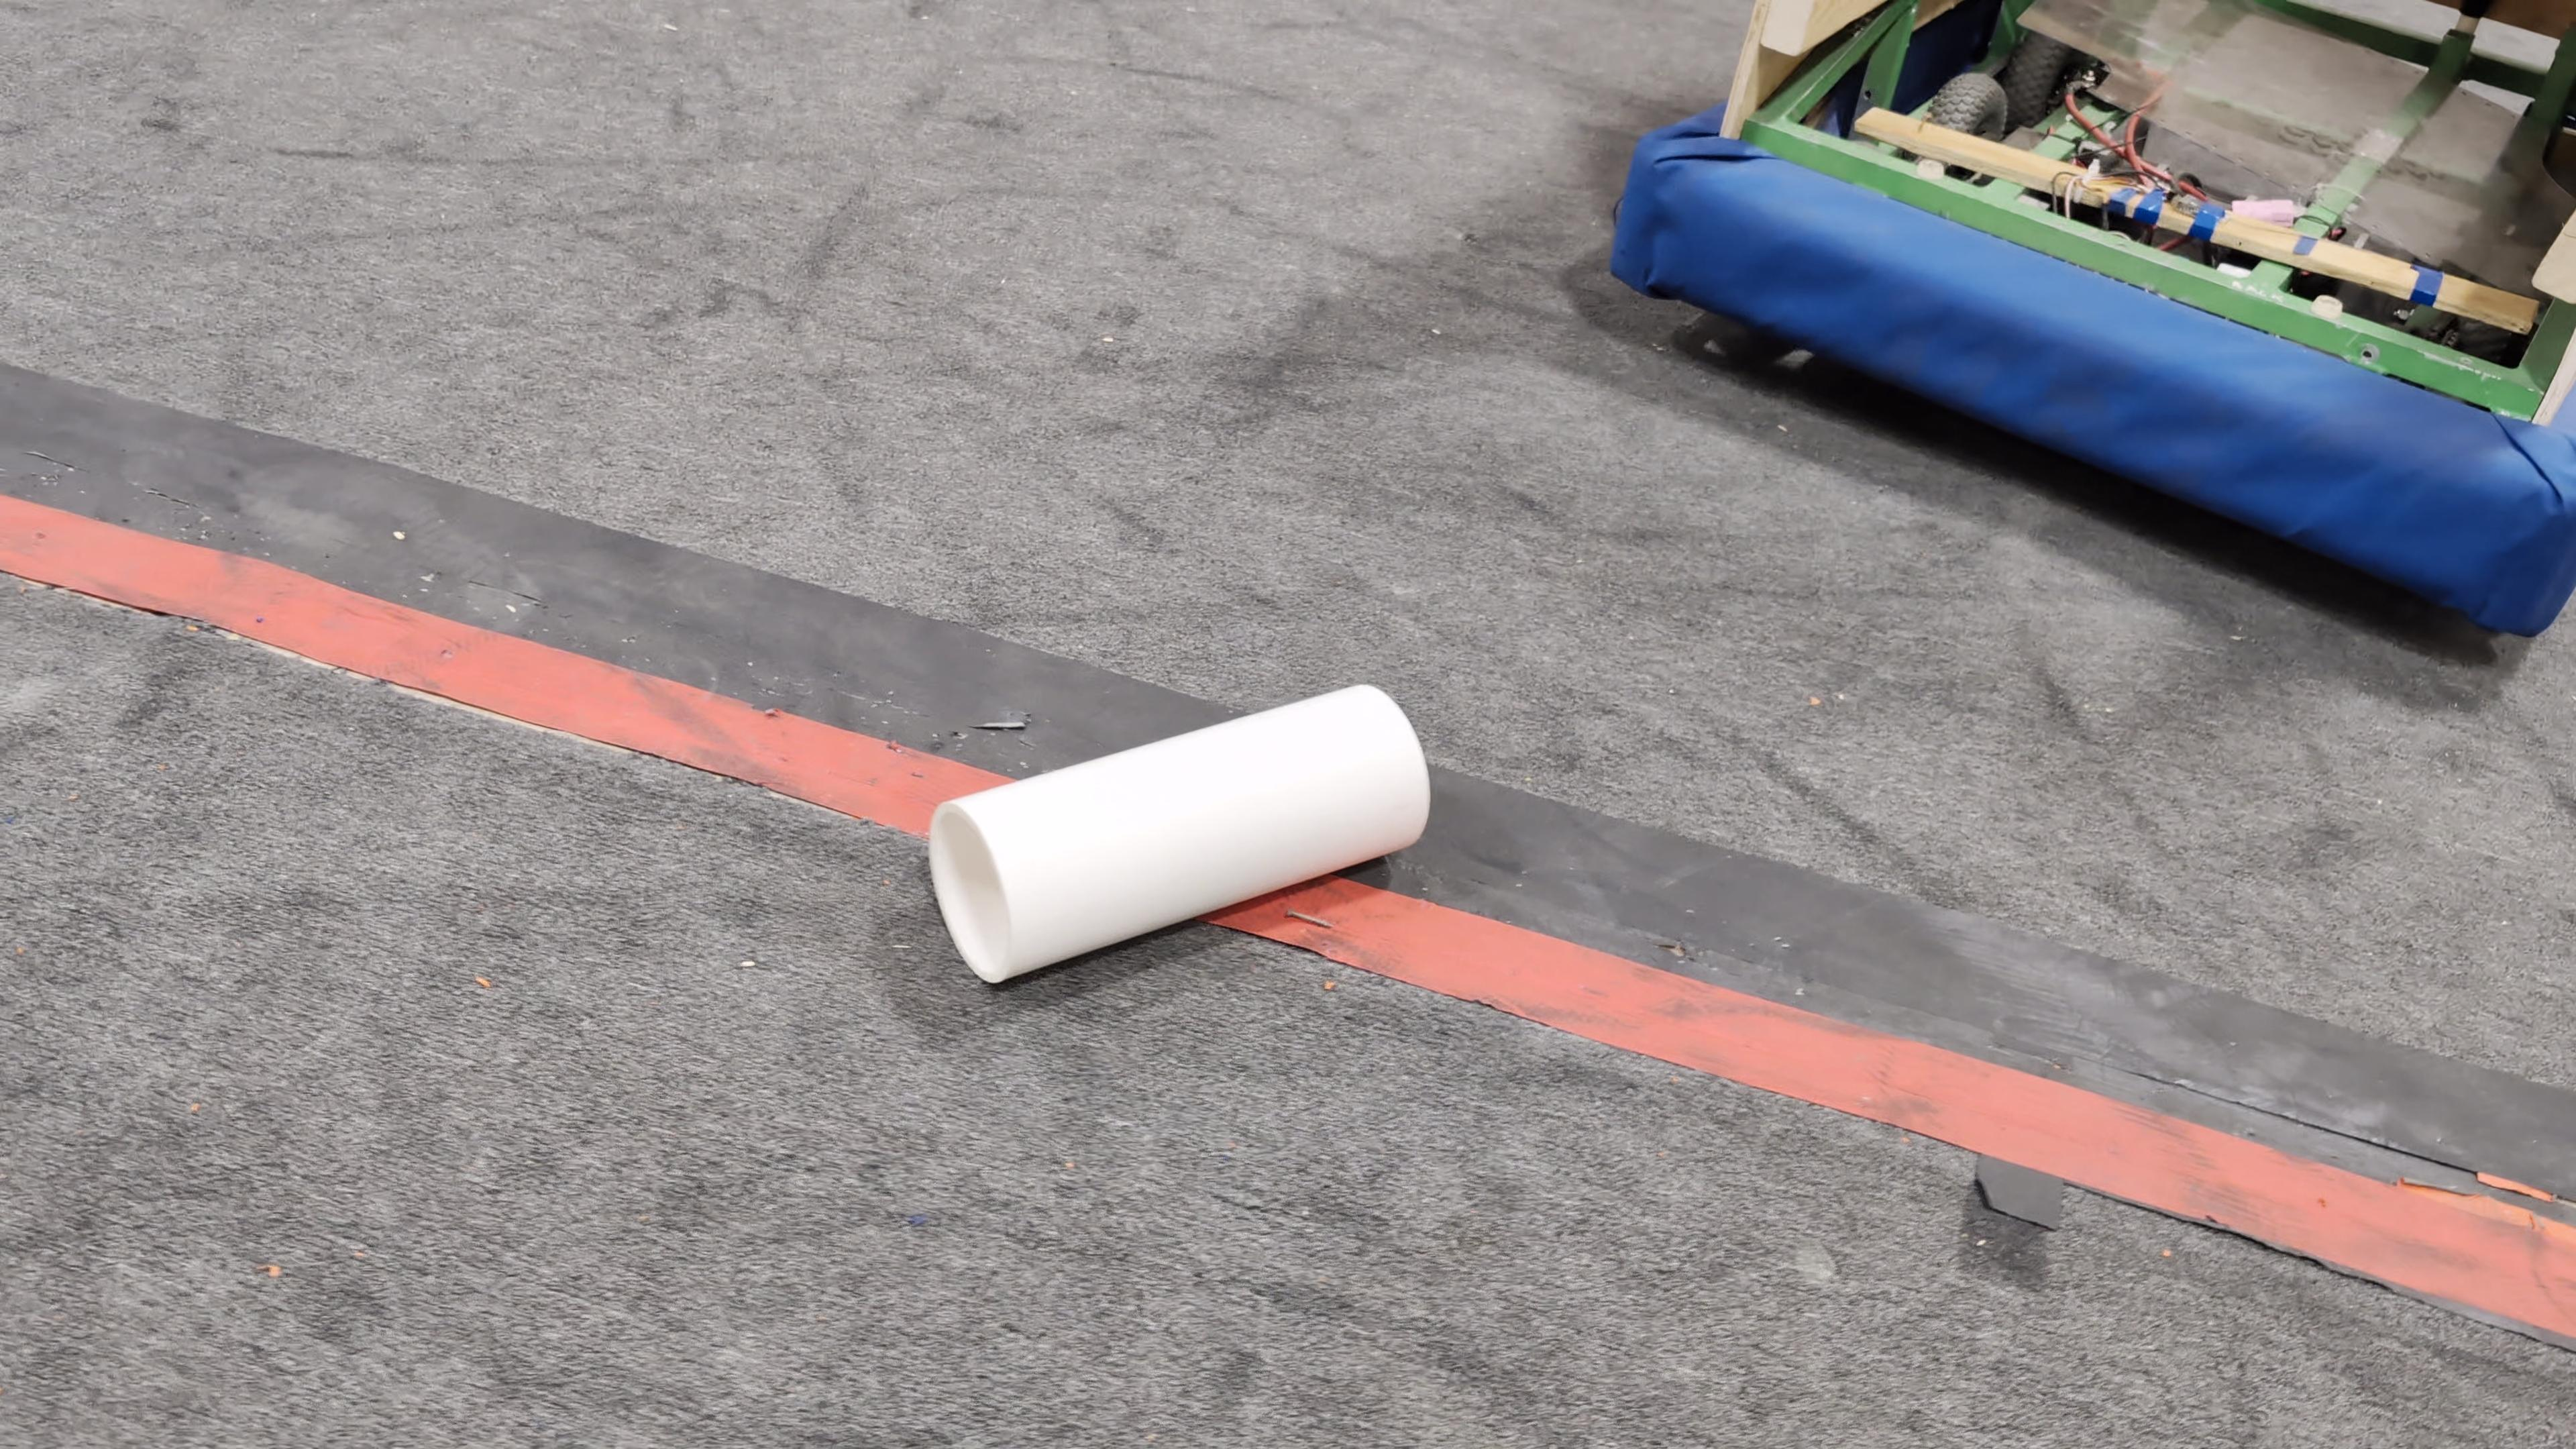coral: (922, 679, 1433, 987)
